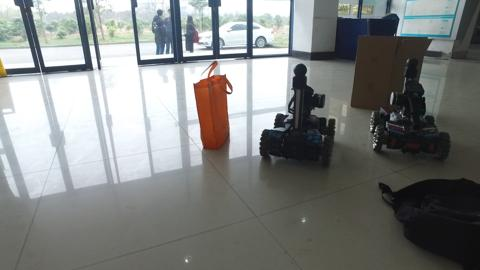bag: (193, 62, 230, 150)
chariot: (262, 61, 339, 169), (370, 61, 453, 159)
